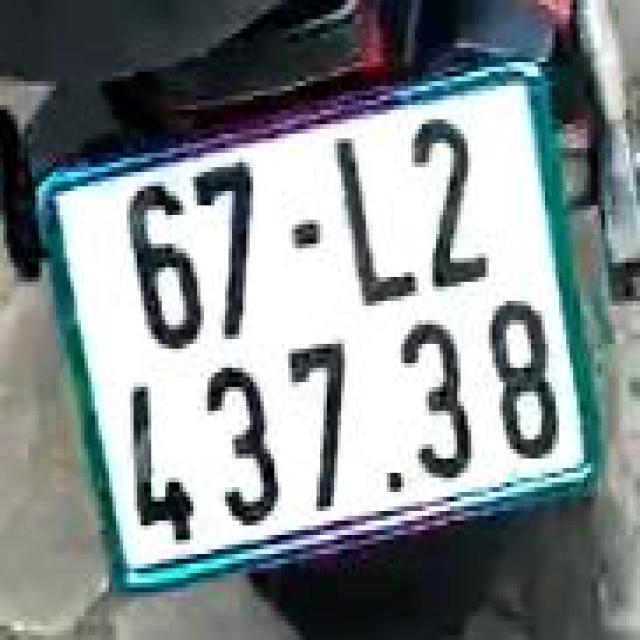2: (402, 94, 502, 299)
3: (193, 338, 290, 538), (391, 305, 480, 496)
4: (114, 362, 203, 553)
6: (118, 165, 211, 364)
7: (184, 151, 284, 347), (282, 318, 367, 522)
8: (475, 279, 574, 470)
L: (324, 114, 424, 320)
